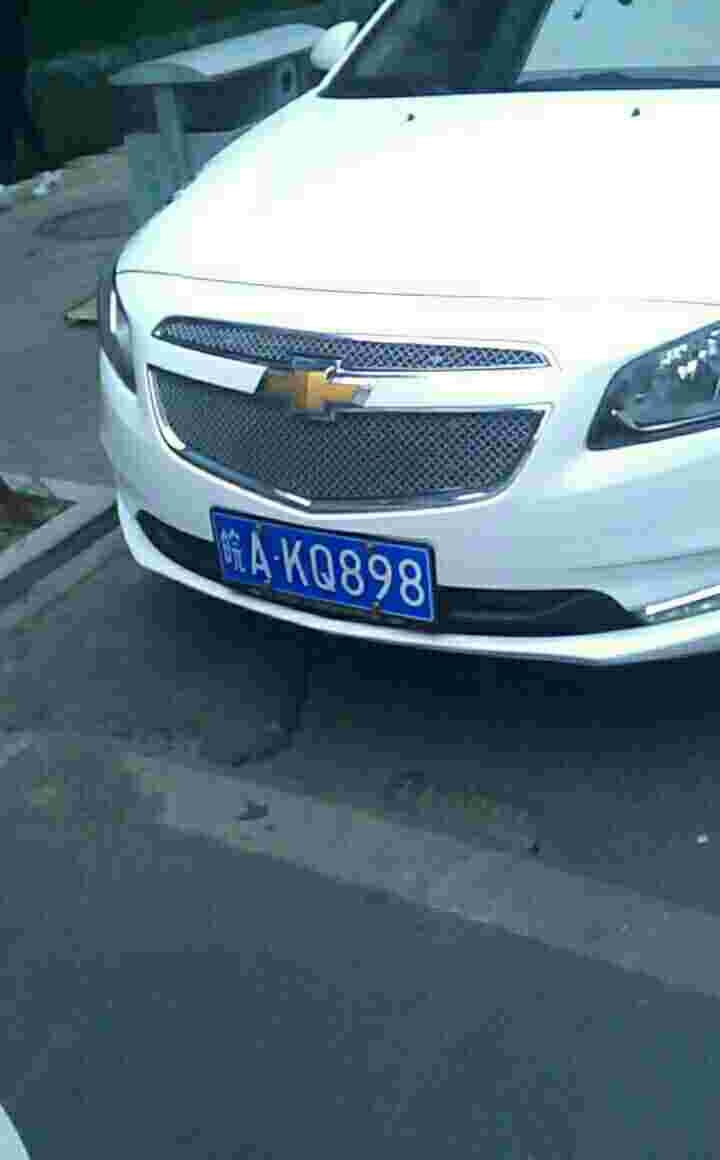license_plate: (214, 504, 441, 620)
